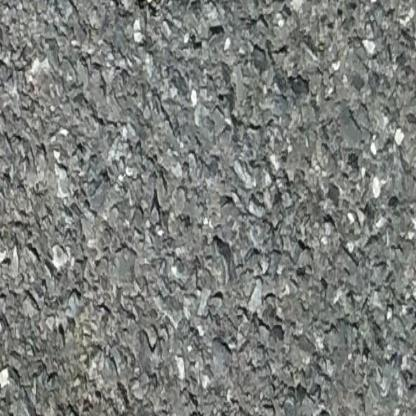Cracks: (92, 0, 194, 14)
